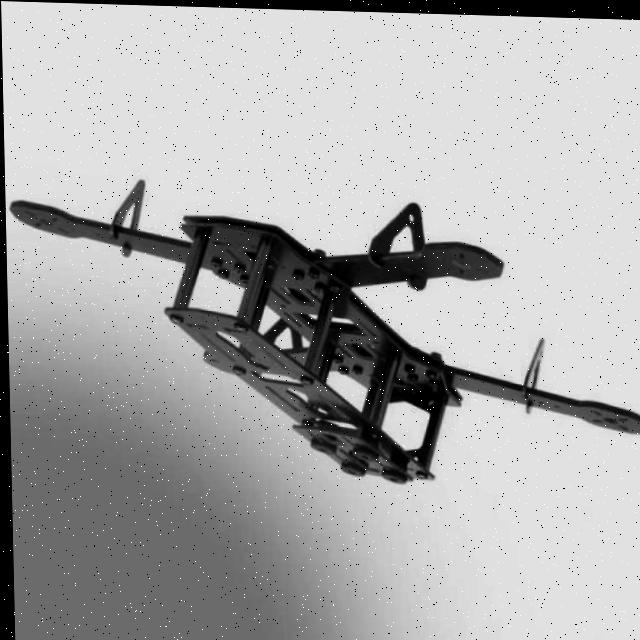drone: (4, 141, 640, 496)
